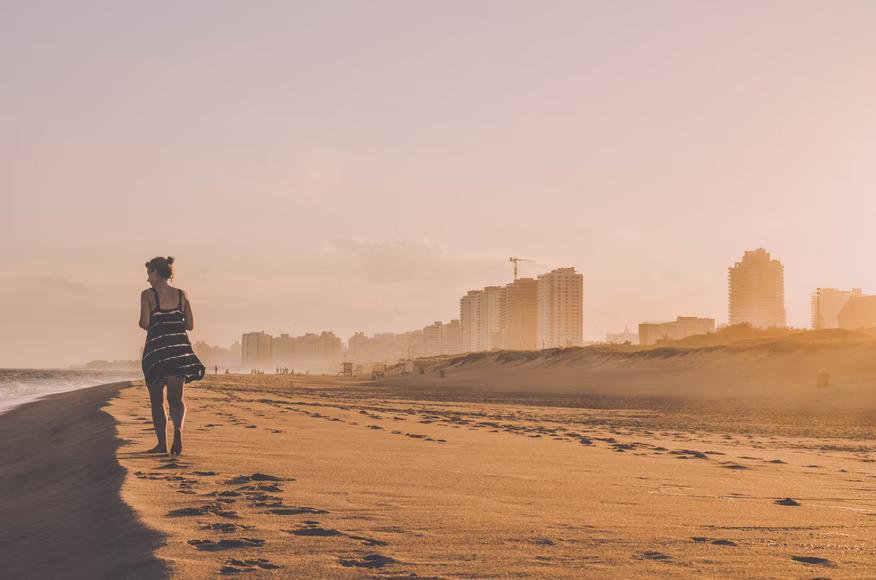person: (139, 257, 193, 452)
